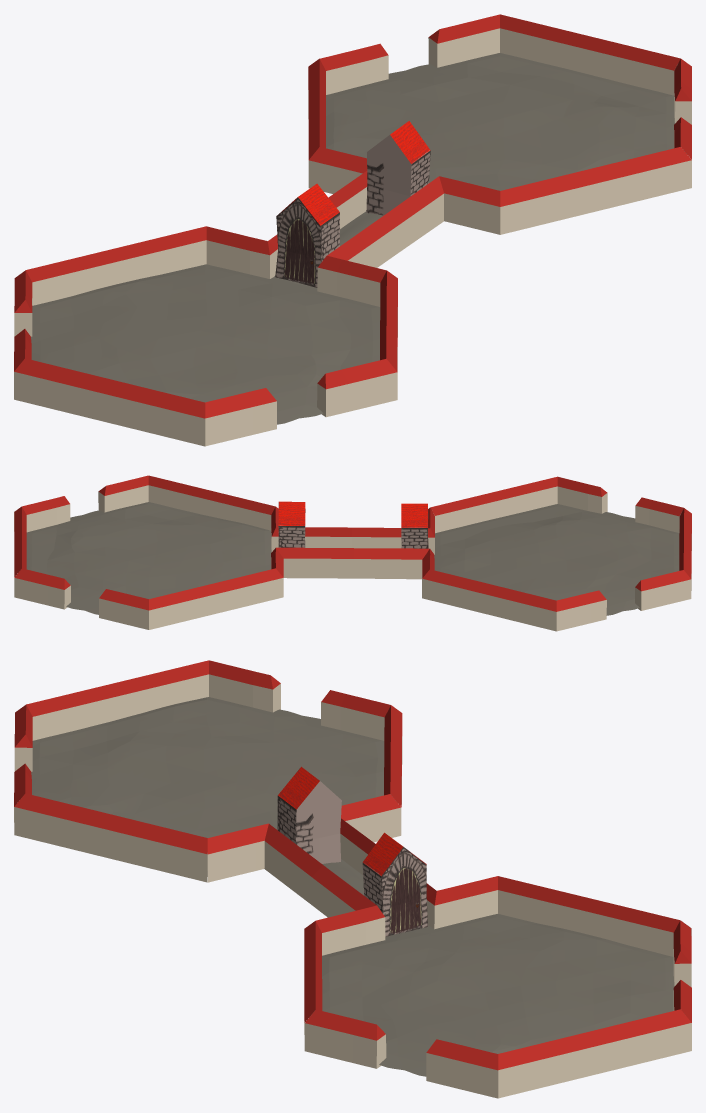
Rendered from street.fbx.
3 views of the same model, one above another, from view 1: azimuth 30°, elevation 25°; view 2: azimuth 150°, elevation 25°; view 3: azimuth 270°, elevation 25° (orthographic). The views are drawn at different scales.
Parts seen in each view (by area): view 1: floor.002, floor.001, placa_gorund, placa_gorund.006, placa_gorund.004, placa_gorund.001, placa_gorund.005, placa_gorund.002, churchdoor, churchdoor.001, placa_gorund.003, floor; view 2: floor.001, floor.002, placa_gorund.006, placa_gorund, placa_gorund.001, placa_gorund.002, placa_gorund.003, placa_gorund.004, churchdoor.001, churchdoor, placa_gorund.005; view 3: floor.001, floor.002, placa_gorund, placa_gorund.006, placa_gorund.003, placa_gorund.001, churchdoor.001, placa_gorund.005, churchdoor, placa_gorund.002, placa_gorund.004.
Boxes of the visible parts, x1,y1,x2,y2 form: floor.002: (31, 264, 380, 424); floor.001: (326, 53, 686, 190); placa_gorund: (308, 14, 691, 234); placa_gorund.006: (14, 226, 397, 446); placa_gorund.004: (205, 359, 397, 446); placa_gorund.001: (268, 171, 443, 267); placa_gorund.005: (206, 226, 386, 306); placa_gorund.002: (320, 14, 499, 94); churchdoor: (275, 183, 339, 287); churchdoor.001: (366, 121, 430, 215); placa_gorund.003: (674, 59, 691, 159); floor: (274, 211, 383, 285); floor.001: (26, 502, 271, 614); floor.002: (434, 504, 679, 615); placa_gorund.006: (422, 476, 691, 631); placa_gorund: (14, 475, 283, 629); placa_gorund.001: (276, 527, 429, 579); placa_gorund.002: (14, 568, 148, 629); placa_gorund.003: (14, 475, 148, 532); placa_gorund.004: (557, 477, 683, 532); churchdoor.001: (278, 501, 305, 547); churchdoor: (401, 503, 428, 548); placa_gorund.005: (422, 507, 434, 577); floor.001: (322, 914, 674, 1076); floor.002: (31, 697, 395, 876); placa_gorund: (304, 876, 691, 1098); placa_gorund.006: (14, 660, 402, 882); placa_gorund.003: (304, 1009, 498, 1098); placa_gorund.001: (264, 818, 436, 917); churchdoor.001: (362, 832, 427, 936); placa_gorund.005: (207, 794, 401, 882); churchdoor: (277, 766, 341, 863); placa_gorund.002: (673, 920, 691, 1022); placa_gorund.004: (14, 704, 32, 822).
Size of the model in its own units: 168 by 18.12 by 119.
